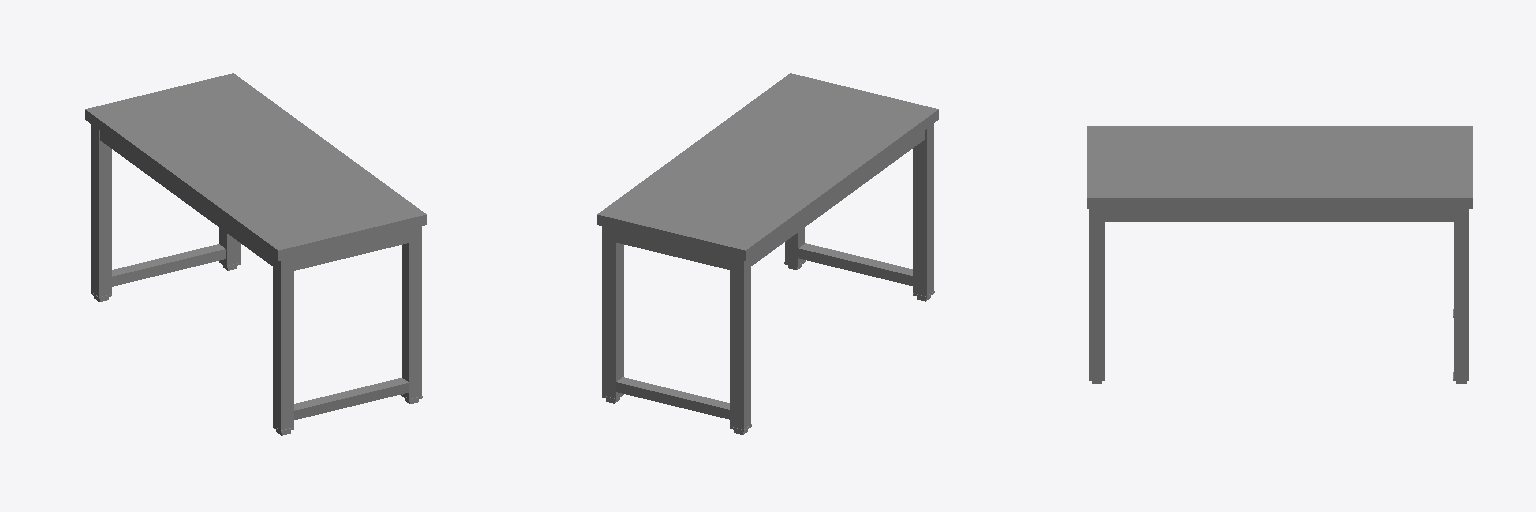
The model's file is Desk.obj.
3 renders of one model, left to right at view 1: azimuth 30°, elevation 25°; view 2: azimuth 150°, elevation 25°; view 3: azimuth 270°, elevation 25°, orthographic.
Visible parts, largest first — view 1: DeskBody; view 2: DeskBody; view 3: DeskBody.
Boxes of the visible parts, x1=… form: DeskBody: x1=85, y1=73, x2=426, y2=435; DeskBody: x1=597, y1=73, x2=938, y2=434; DeskBody: x1=1087, y1=126, x2=1472, y2=383.
Size of the model in its own units: 63.1 by 76.45 by 142.